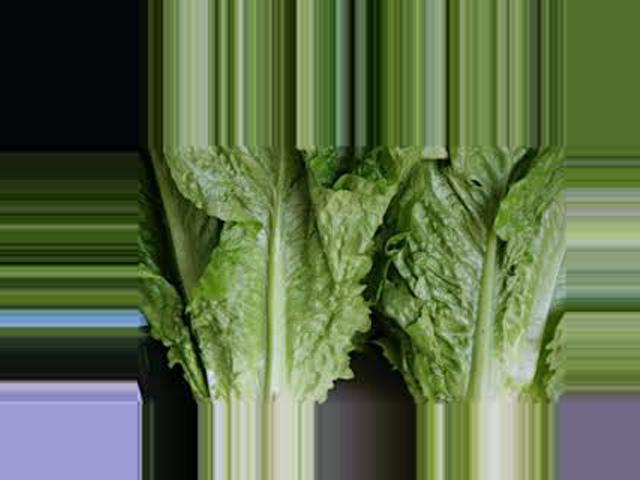lettuce: (385, 159, 553, 406)
